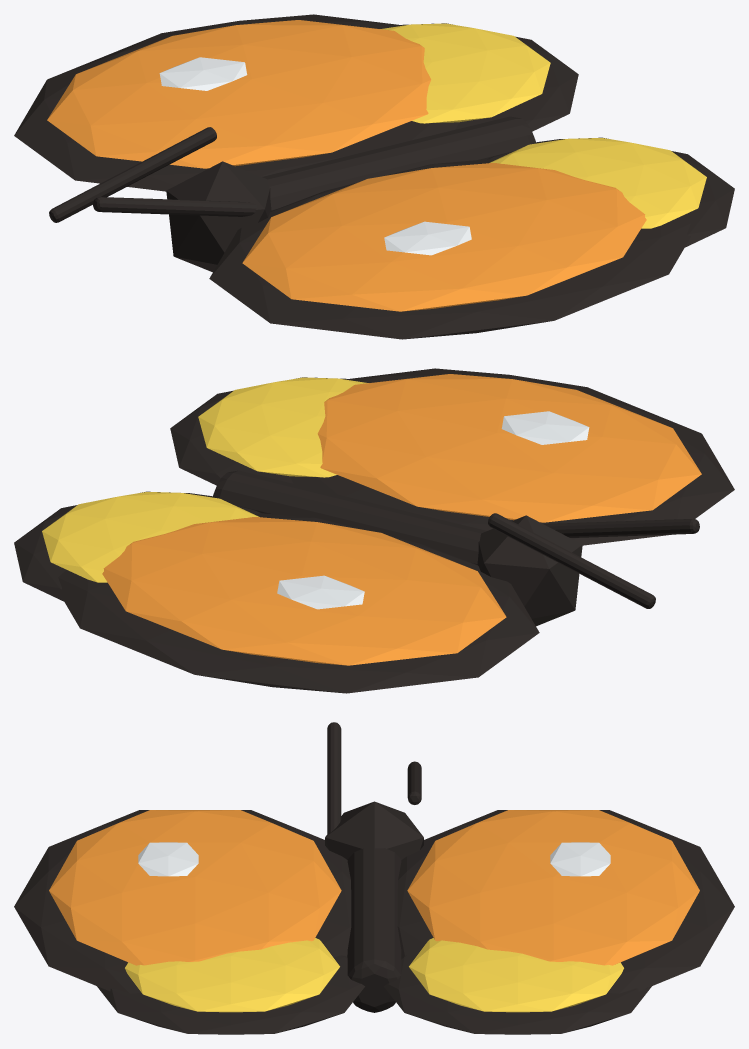
File: Butterfly.fbx
The picture shows the model from 3 angles, top to bottom: view 1: azimuth 30°, elevation 25°; view 2: azimuth 150°, elevation 25°; view 3: azimuth 270°, elevation 25°; orthographic projection. The views are drawn at different scales.
Visible parts, largest first — view 1: ButterflyForewing_-1, ButterflyForewing_1, ButterflyForewingBorder_-1, ButterflyForewingBorder_1, ButterflyHindwing_1, ButterflyHindwing_-1, ButterflyBody, ButterflyHead, ButterflyHindwingBorder_1, ButterflyAntenna_1, ButterflyHindwingBorder_-1, ButterflyAntenna_-1 (+2 smaller); view 2: ButterflyForewing_1, ButterflyForewing_-1, ButterflyForewingBorder_1, ButterflyHindwing_-1, ButterflyHindwing_1, ButterflyForewingBorder_-1, ButterflyBody, ButterflyHead, ButterflyHindwingBorder_-1, ButterflyAntenna_1, ButterflyHindwingBorder_1, ButterflyAntenna_-1 (+2 smaller); view 3: ButterflyForewing_-1, ButterflyForewing_1, ButterflyHindwing_-1, ButterflyHindwing_1, ButterflyForewingBorder_-1, ButterflyForewingBorder_1, ButterflyBody, ButterflyHindwingBorder_-1, ButterflyHindwingBorder_1, ButterflyHead, ButterflyWingSpot_-1, ButterflyWingSpot_1 (+2 smaller).
Boxes of the visible parts, left/top/right/bottom form: ButterflyForewing_-1: left=242, top=163, right=646, bottom=311; ButterflyForewing_1: left=47, top=20, right=431, bottom=168; ButterflyForewingBorder_-1: left=209, top=159, right=691, bottom=339; ButterflyForewingBorder_1: left=14, top=14, right=459, bottom=191; ButterflyHindwing_1: left=380, top=23, right=550, bottom=123; ButterflyHindwing_-1: left=489, top=138, right=706, bottom=228; ButterflyBody: left=262, top=116, right=536, bottom=210; ButterflyHead: left=166, top=161, right=271, bottom=272; ButterflyHindwingBorder_1: left=401, top=23, right=578, bottom=131; ButterflyAntenna_1: left=49, top=127, right=216, bottom=222; ButterflyHindwingBorder_-1: left=487, top=137, right=734, bottom=247; ButterflyAntenna_-1: left=93, top=197, right=256, bottom=216; ButterflyForewing_1: left=102, top=517, right=506, bottom=665; ButterflyForewing_-1: left=317, top=374, right=701, bottom=522; ButterflyForewingBorder_1: left=57, top=513, right=539, bottom=693; ButterflyHindwing_-1: left=198, top=377, right=368, bottom=477; ButterflyHindwing_1: left=42, top=492, right=259, bottom=582; ButterflyForewingBorder_-1: left=289, top=368, right=734, bottom=545; ButterflyBody: left=212, top=470, right=486, bottom=564; ButterflyHead: left=477, top=515, right=582, bottom=626; ButterflyHindwingBorder_-1: left=170, top=377, right=347, bottom=485; ButterflyAntenna_1: left=488, top=513, right=655, bottom=608; ButterflyHindwingBorder_1: left=14, top=491, right=261, bottom=601; ButterflyAntenna_-1: left=543, top=518, right=699, bottom=537; ButterflyForewing_-1: left=49, top=810, right=341, bottom=965; ButterflyForewing_1: left=407, top=810, right=699, bottom=965; ButterflyHindwing_-1: left=125, top=938, right=339, bottom=1012; ButterflyHindwing_1: left=409, top=938, right=623, bottom=1012; ButterflyForewingBorder_-1: left=14, top=810, right=351, bottom=993; ButterflyForewingBorder_1: left=397, top=810, right=734, bottom=993; ButterflyBody: left=347, top=848, right=401, bottom=1012; ButterflyHindwingBorder_-1: left=97, top=955, right=364, bottom=1034; ButterflyHindwingBorder_1: left=384, top=955, right=651, bottom=1034; ButterflyHead: left=325, top=801, right=423, bottom=859; ButterflyWingSpot_-1: left=138, top=842, right=198, bottom=876; ButterflyWingSpot_1: left=550, top=842, right=610, bottom=876.
Bounding box in the file's own units: 0.663 × 0.1471 × 0.8048.
